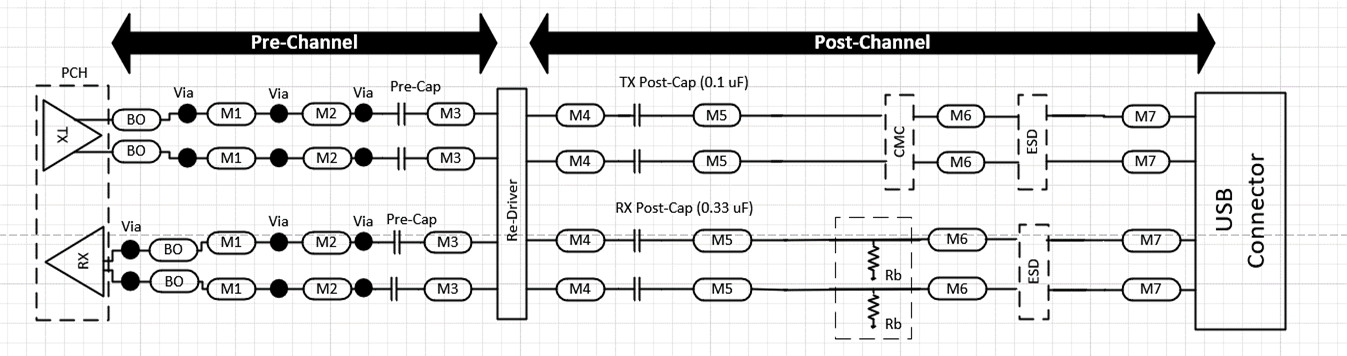capacitor: (391, 141, 407, 177), (388, 224, 404, 260), (386, 268, 402, 304), (630, 95, 646, 131), (628, 145, 644, 181), (629, 224, 645, 260), (627, 274, 643, 310), (394, 99, 411, 131)
circle: (352, 274, 373, 300), (177, 102, 198, 127), (177, 145, 198, 170), (120, 237, 141, 262), (120, 269, 141, 294), (269, 101, 290, 126), (269, 144, 290, 169), (268, 230, 289, 255), (268, 276, 289, 301), (353, 98, 374, 123), (353, 146, 374, 171), (353, 230, 374, 255)
dotted_rectangle: (29, 79, 112, 328), (880, 80, 919, 200), (1013, 84, 1052, 204), (1014, 214, 1053, 334)
oval: (923, 225, 991, 254), (922, 272, 990, 301), (1119, 224, 1182, 254), (1119, 275, 1182, 305), (691, 227, 754, 255), (690, 274, 753, 302), (1119, 100, 1174, 129), (1118, 146, 1173, 175), (111, 103, 163, 132), (110, 137, 162, 166), (205, 101, 257, 130), (205, 143, 257, 172), (424, 99, 476, 128), (425, 144, 477, 173), (147, 233, 199, 262), (149, 267, 201, 296), (205, 229, 257, 258), (205, 274, 257, 303), (300, 99, 352, 128), (301, 141, 353, 170), (301, 227, 353, 256), (303, 274, 355, 303), (422, 228, 474, 257), (423, 275, 475, 304), (554, 99, 606, 128), (555, 146, 607, 175), (554, 226, 606, 255), (554, 275, 606, 304), (691, 99, 743, 128), (690, 146, 742, 175), (934, 100, 986, 129), (934, 145, 986, 174)
rectangle: (1187, 82, 1289, 338), (492, 82, 531, 326)
resistor: (863, 242, 882, 271), (865, 292, 884, 321)
triangle: (40, 96, 103, 175), (45, 221, 108, 300)
